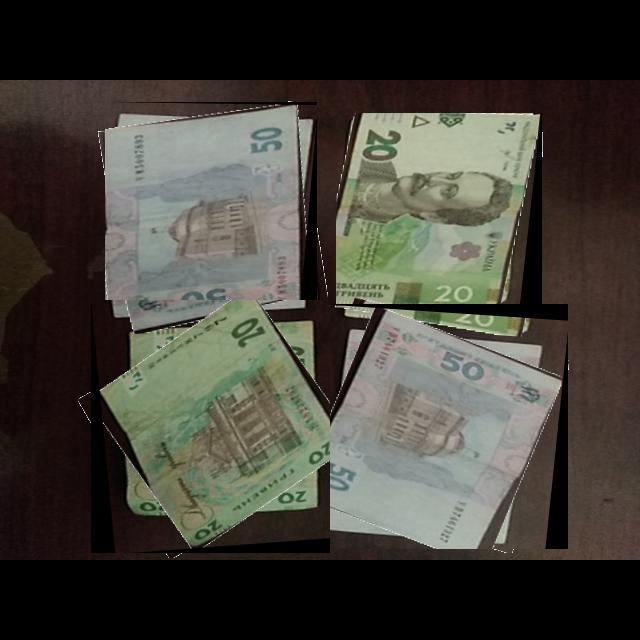20uah: (98, 300, 331, 550), (336, 113, 542, 312)
50uah: (317, 308, 565, 550), (105, 105, 304, 334)
